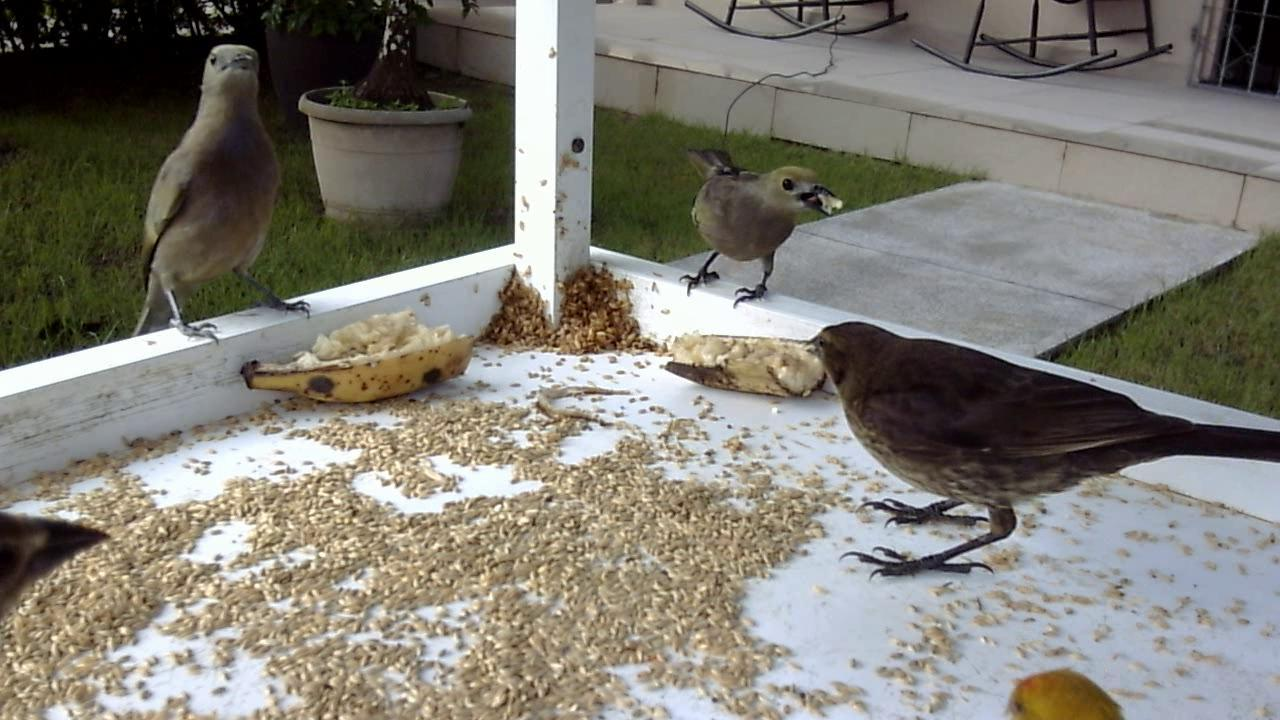canario_do_amazonas: (986, 653, 1144, 720)
chupim: (786, 293, 1275, 597)
sanhaco_do_coqueiro: (129, 44, 323, 354), (662, 133, 848, 322)
